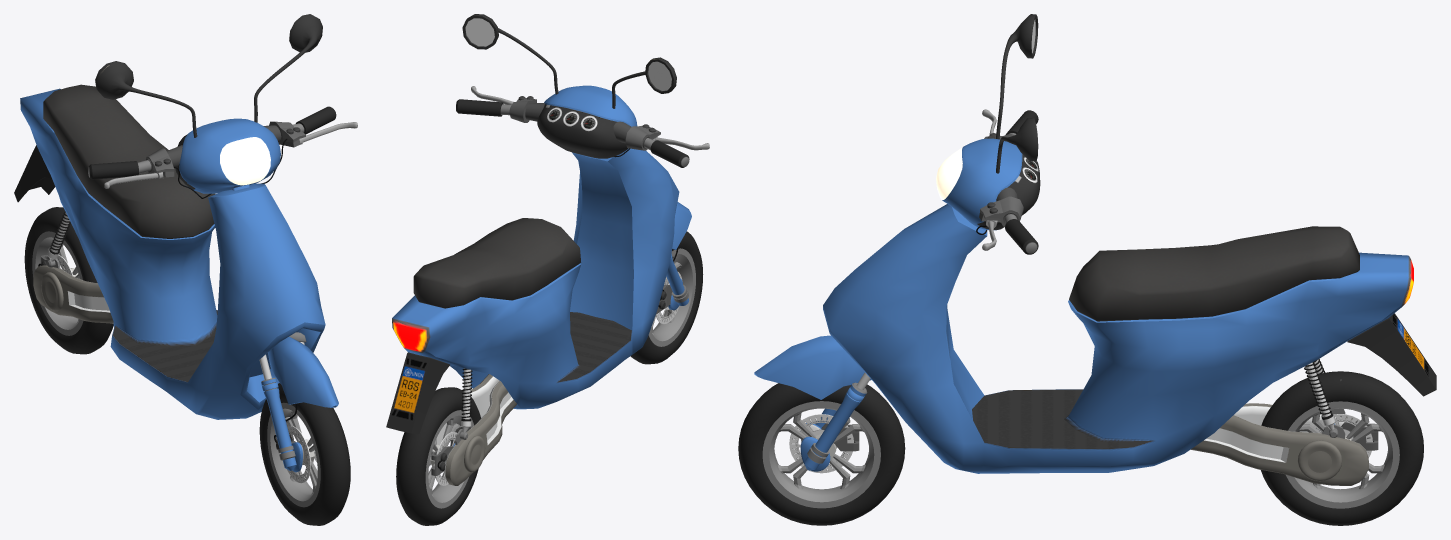
The model's file is scooter1.glb.
The picture shows the model from 3 angles, left to right: view 1: azimuth 30°, elevation 25°; view 2: azimuth 150°, elevation 25°; view 3: azimuth 270°, elevation 25°; orthographic projection. The views are drawn at different scales.
Visible parts, largest first — view 1: Piggo_LP, HandlesGood!, Front_Wheel, Rear_Wheel, RearSuspension, FrontSuspensionFork.; view 2: Piggo_LP, HandlesGood!, Rear_Wheel, RearSuspension, Front_Wheel, FrontSuspensionFork.; view 3: Piggo_LP, Front_Wheel, HandlesGood!, Rear_Wheel, RearSuspension, FrontSuspensionFork..
Boxes of the visible parts, x1=… form: Piggo_LP: x1=14, y1=84, x2=325, y2=419; HandlesGood!: x1=88, y1=14, x2=357, y2=407; Front_Wheel: x1=259, y1=383, x2=350, y2=525; Rear_Wheel: x1=24, y1=207, x2=113, y2=354; RearSuspension: x1=33, y1=211, x2=113, y2=323; FrontSuspensionFork.: x1=261, y1=377, x2=316, y2=472; Piggo_LP: x1=386, y1=148, x2=679, y2=434; HandlesGood!: x1=456, y1=14, x2=709, y2=249; Rear_Wheel: x1=396, y1=387, x2=480, y2=525; RearSuspension: x1=429, y1=368, x2=516, y2=485; Front_Wheel: x1=630, y1=231, x2=703, y2=364; FrontSuspensionFork.: x1=656, y1=247, x2=689, y2=313; Piggo_LP: x1=823, y1=204, x2=1436, y2=473; Front_Wheel: x1=738, y1=383, x2=905, y2=525; HandlesGood!: x1=754, y1=14, x2=1040, y2=399; Rear_Wheel: x1=1261, y1=371, x2=1423, y2=525; RearSuspension: x1=1191, y1=359, x2=1378, y2=485; FrontSuspensionFork.: x1=800, y1=382, x2=867, y2=471.
Bounding box in the file's own units: 1.55 × 2.41 × 3.35.
2 materials, 2 textured.
